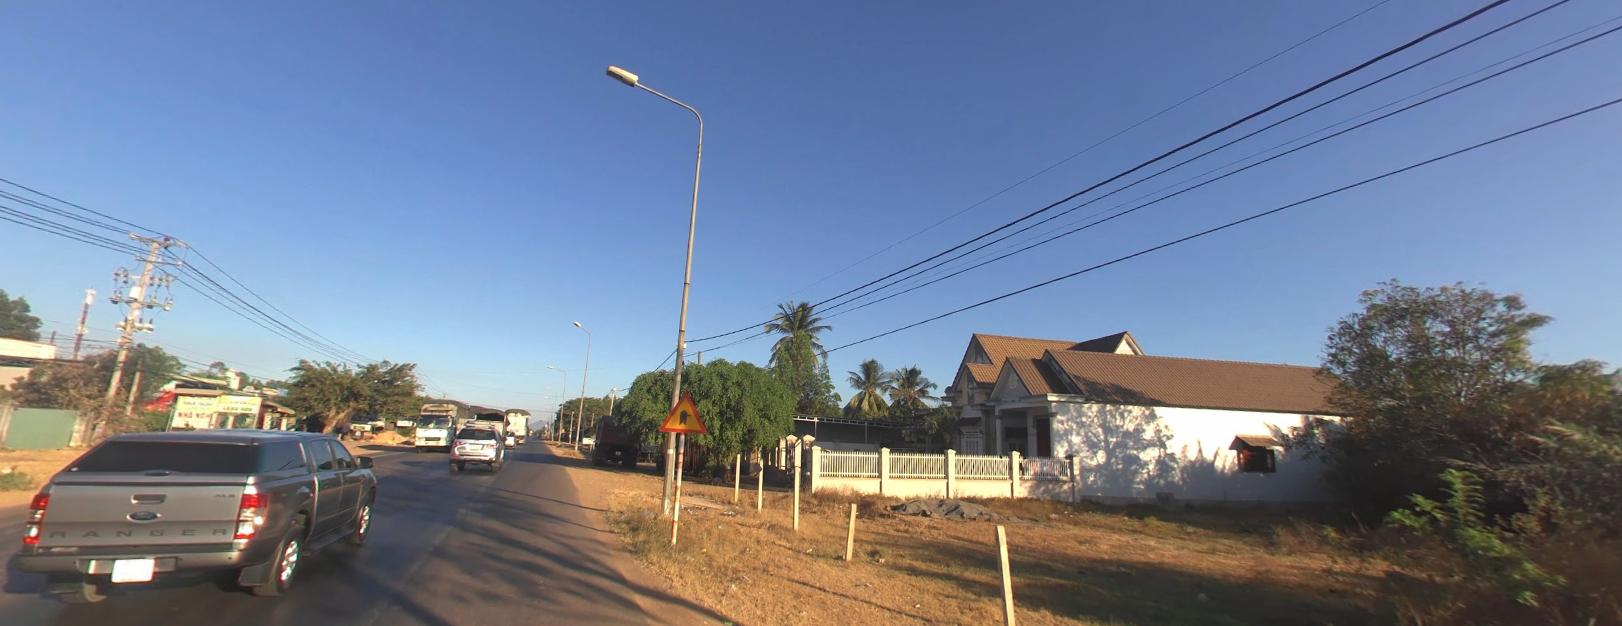Nguy hiem: (659, 386, 709, 435)
